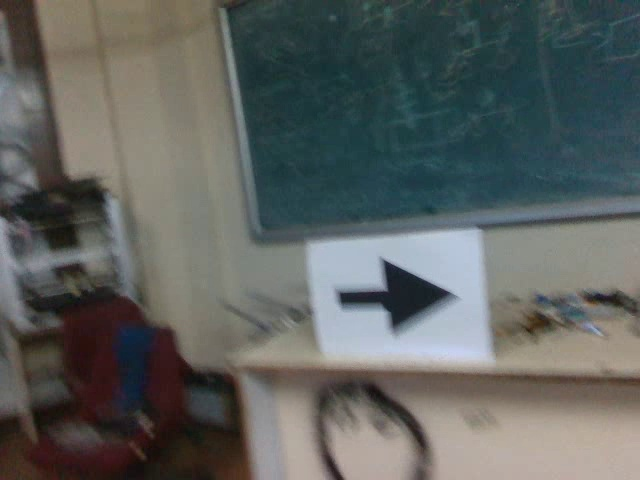Right: (325, 249, 463, 347)
